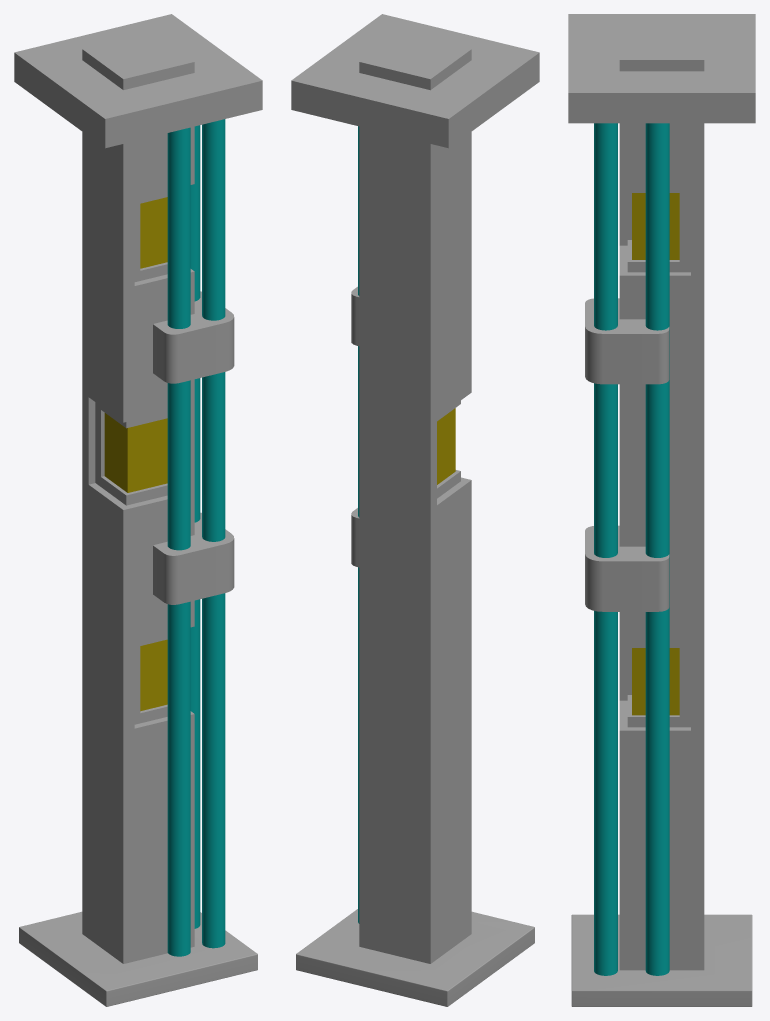
The model's file is Lamp.fbx.
3 renders of one model, left to right at view 1: azimuth 30°, elevation 25°; view 2: azimuth 150°, elevation 25°; view 3: azimuth 270°, elevation 25°, orthographic. The views are drawn at different scales.
Parts seen in each view (by area): view 1: pCube2; view 2: pCube2; view 3: pCube2.
Part boxes in pixels (x1,y1,x2,y2): pCube2: (14, 14, 262, 1006); pCube2: (291, 14, 539, 1006); pCube2: (568, 14, 755, 1006).
Bounding box in the file's own units: 58.4 × 319 × 58.4.
